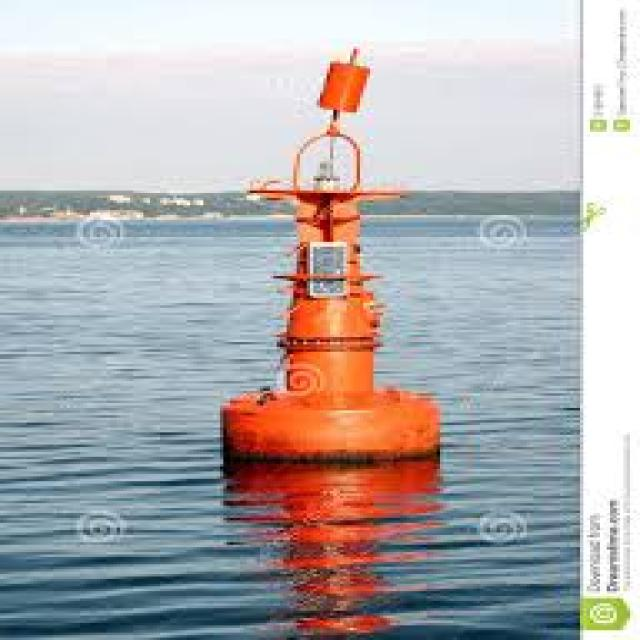2.1 lateral mark -P-: (199, 6, 479, 489)
